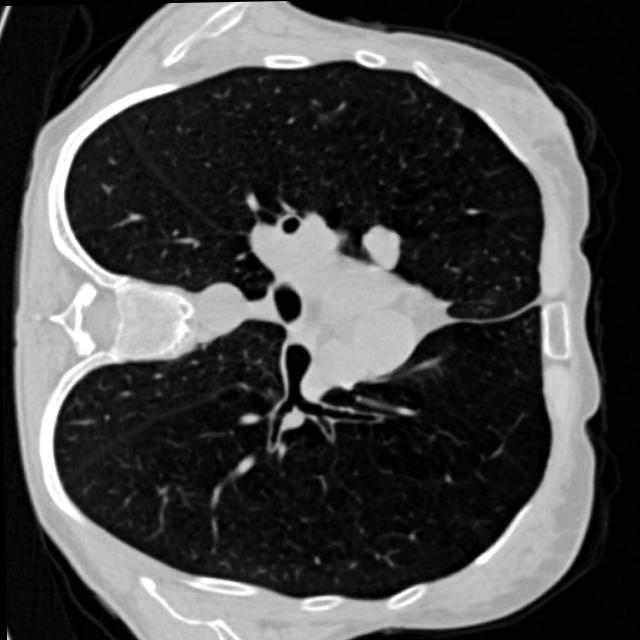nodule: (342, 206, 426, 290)
